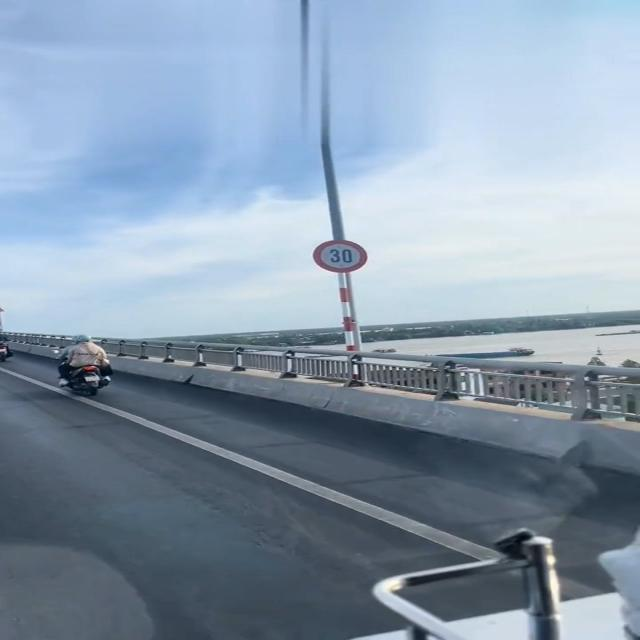127-toc-do-toi-da-30: (312, 239, 368, 273)
